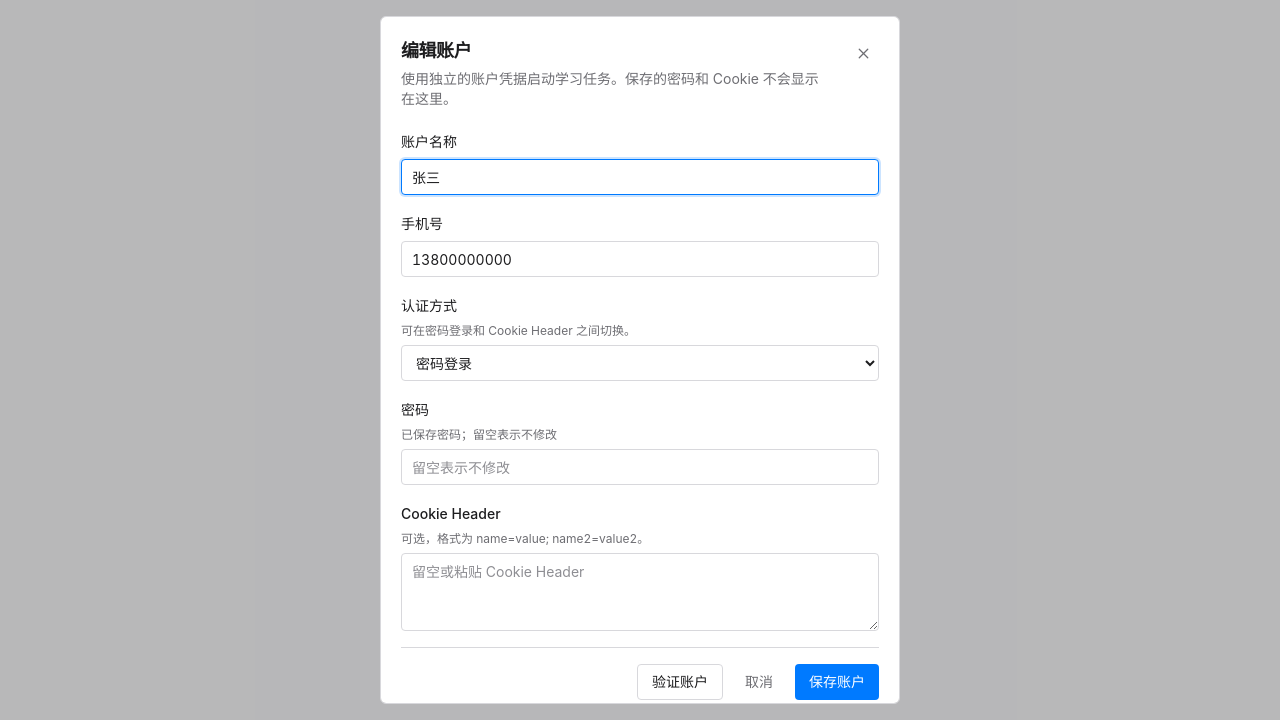
it: saving an unverified account after a failed verify never reports it as verified
The width and height of the screenshot is (1280, 720).
Replace the text in the field labelled "账户名称" with "新名称": (640, 177) 401,159 -> 879,195
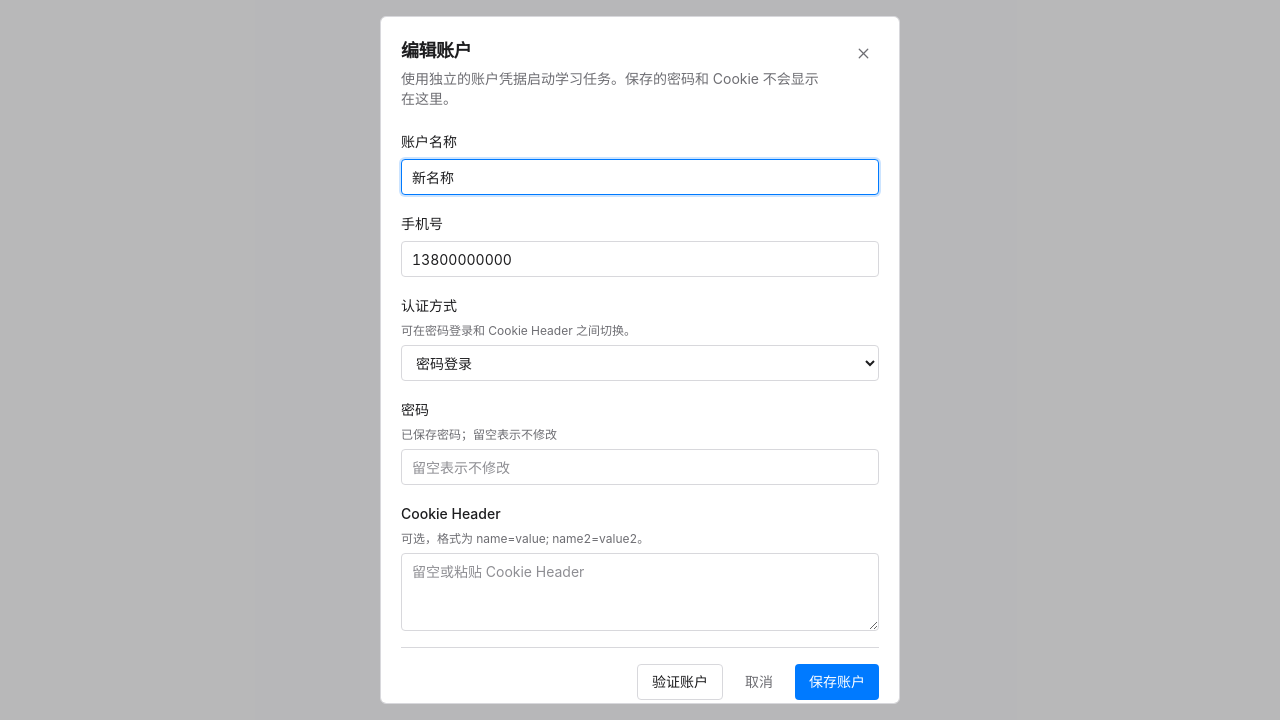
Click the button "保存账户": click(837, 682) 795,664 -> 879,700
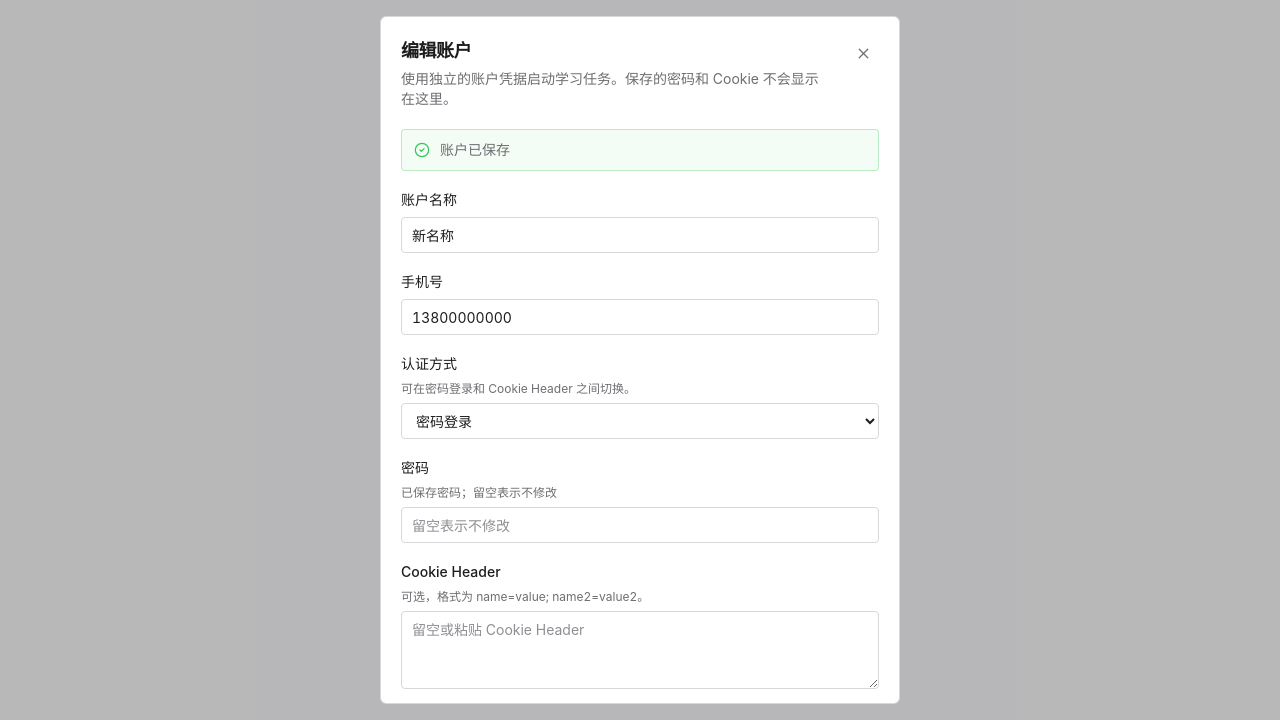
expect the text "账户已保存" is shown: met, box 440,141 -> 510,158
